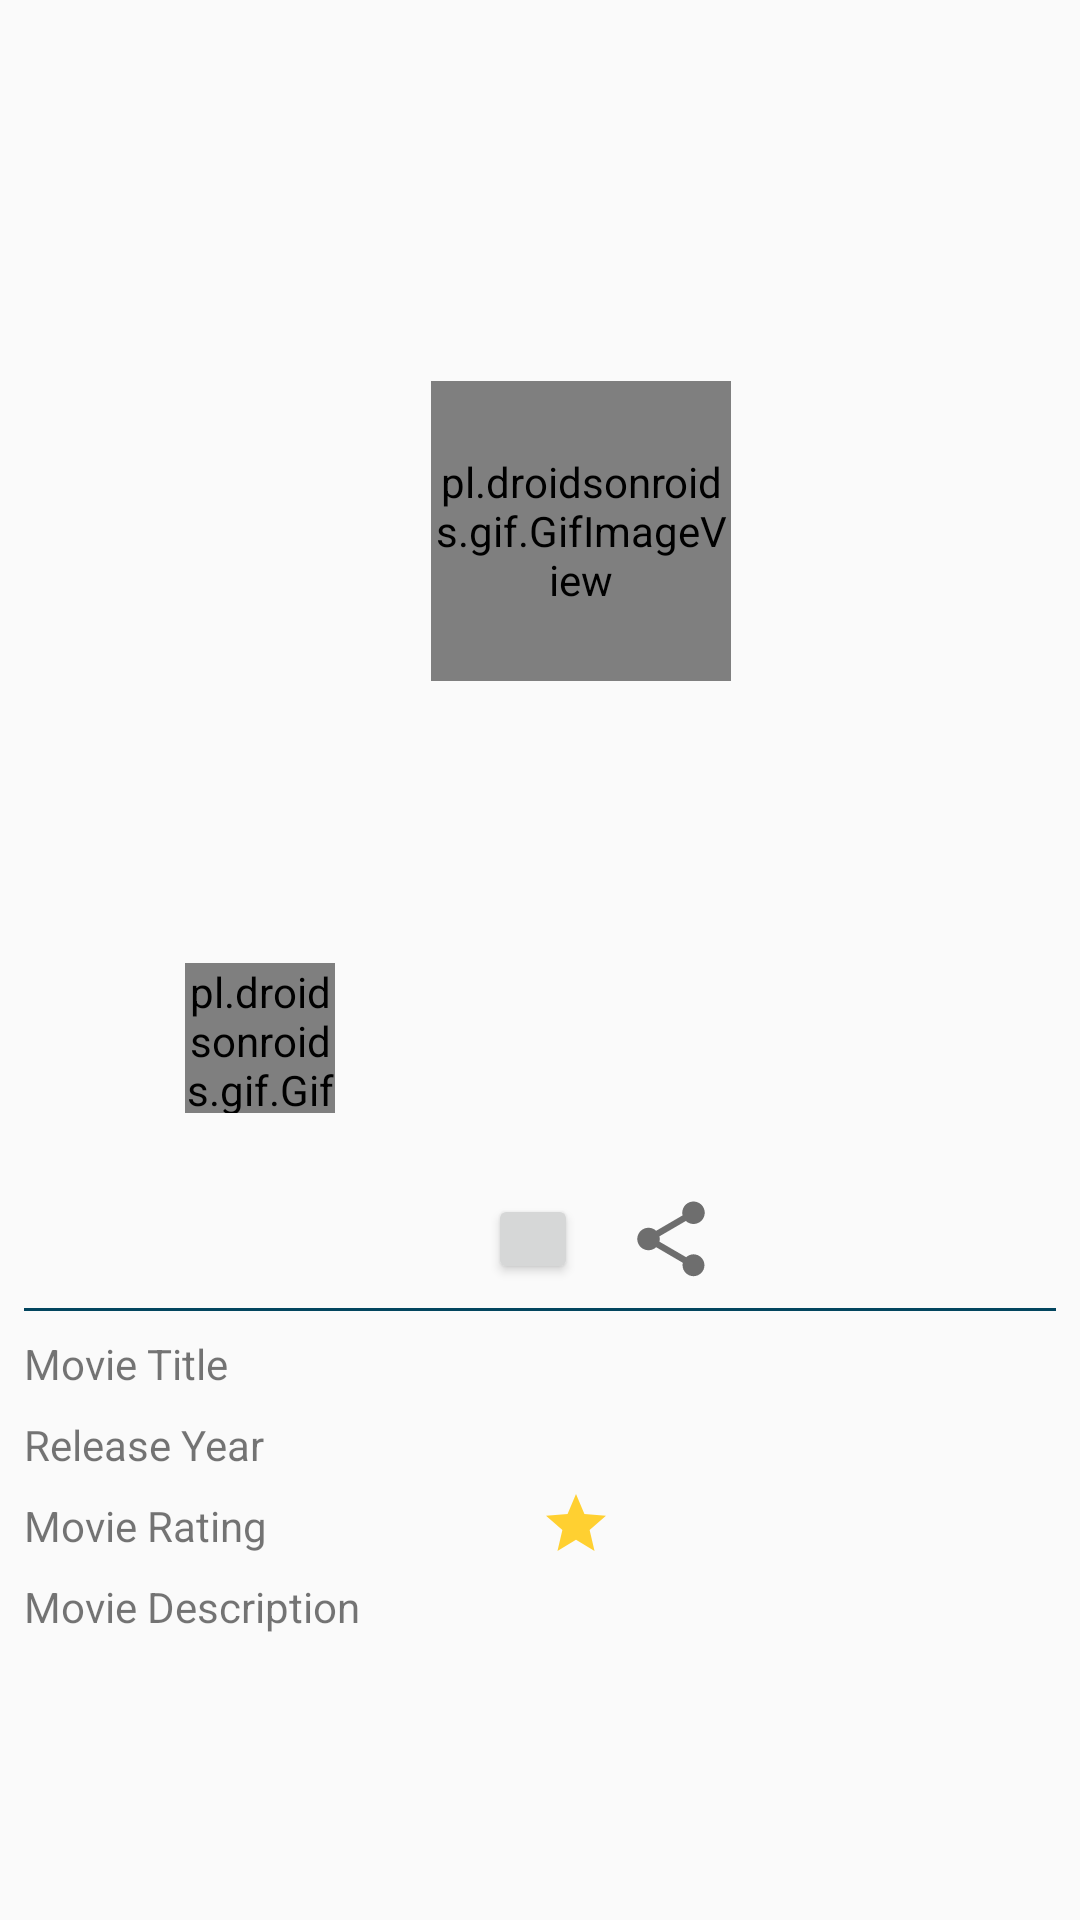

Screen size 1080px x 1920px. Icon name, then its box in pixels as (x1, y1, x2, y2):
star: (546, 1494, 606, 1551)
